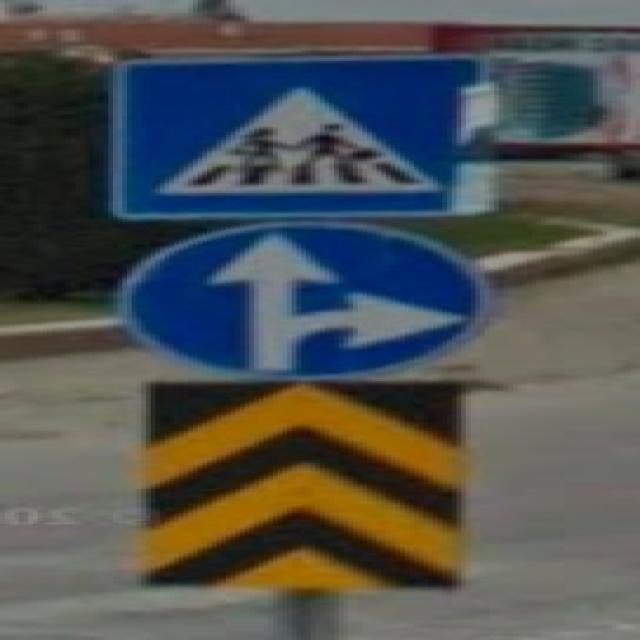Straight or Right: (114, 221, 495, 374)
